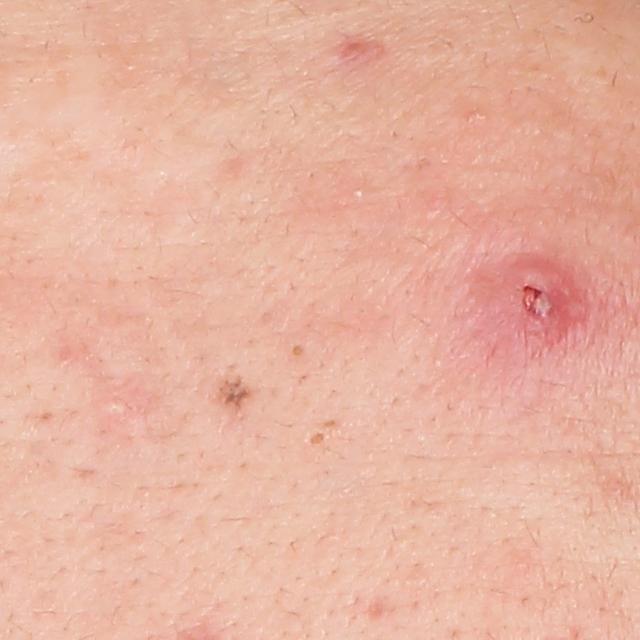comedo: (304, 430, 328, 452), (286, 343, 309, 360)
papule: (460, 244, 596, 349), (337, 30, 382, 66)
